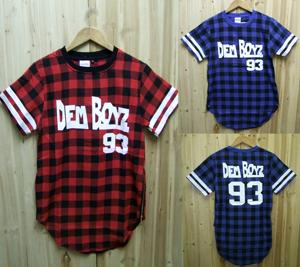C_T-shirt: (1, 45, 181, 257), (178, 2, 300, 134), (183, 140, 300, 266)
